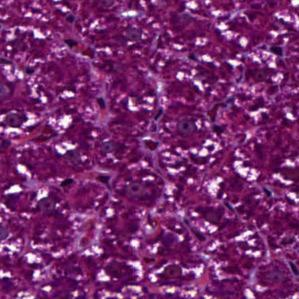inflammation: (0, 108, 39, 133), (0, 182, 27, 212), (170, 115, 201, 139)
